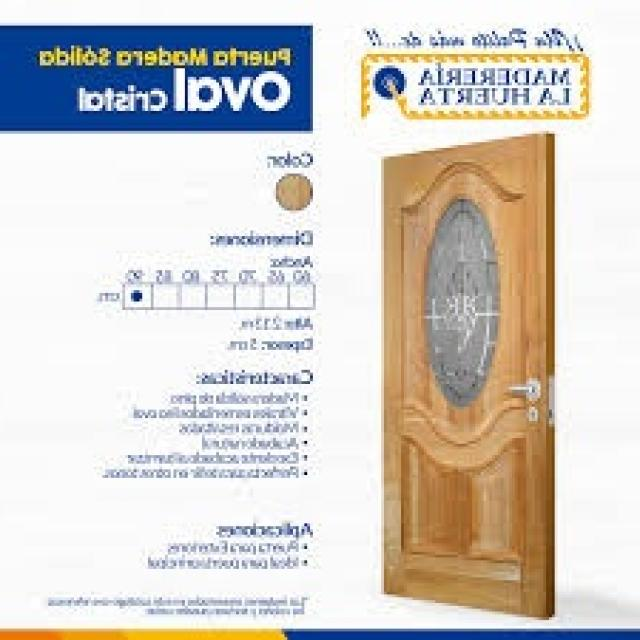door: (381, 131, 558, 617)
